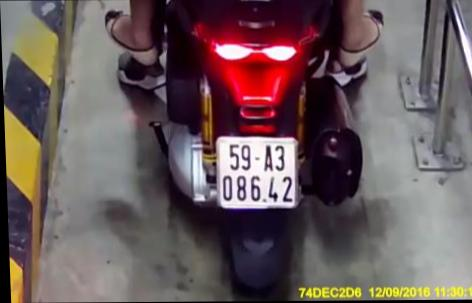LP: (213, 134, 300, 210)
